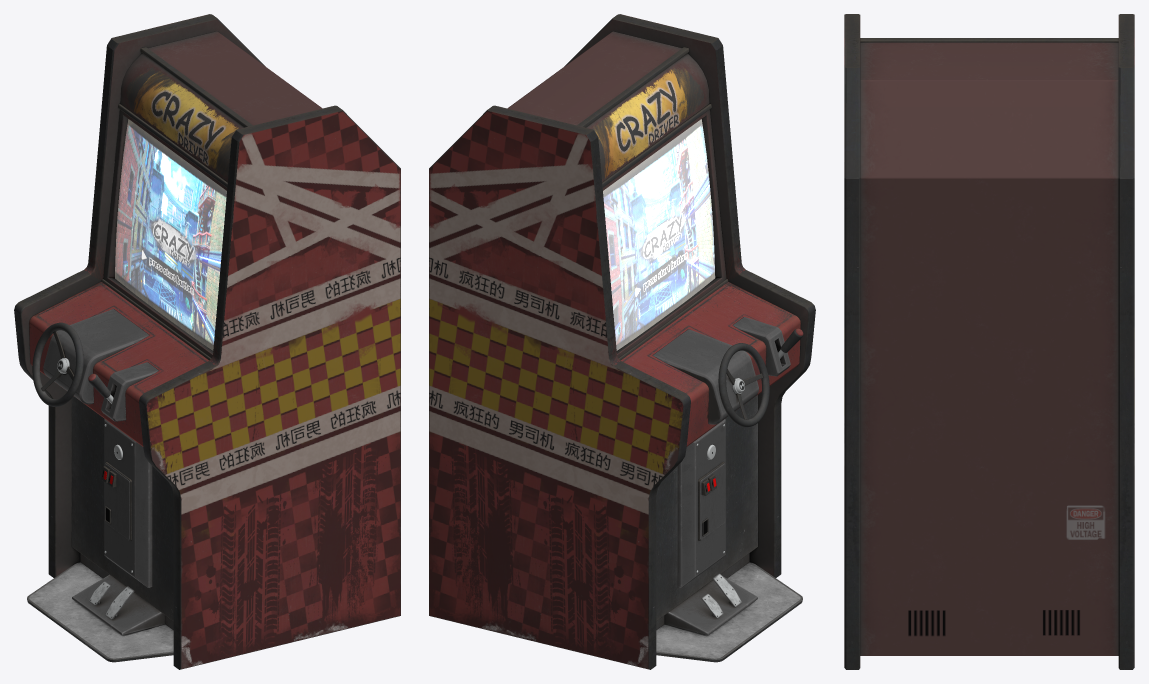
Rendered from SM_SportArcade_01.fbx.
The picture shows the model from 3 angles, left to right: view 1: azimuth 30°, elevation 25°; view 2: azimuth 150°, elevation 25°; view 3: azimuth 270°, elevation 25°; orthographic projection. The views are drawn at different scales.
Parts seen in each view (by area): view 1: SM_SportArcade_01_LOD0; view 2: SM_SportArcade_01_LOD0; view 3: SM_SportArcade_01_LOD0.
Boxes of the visible parts, box(x1,y1,x2,y2) form: SM_SportArcade_01_LOD0: box(14, 14, 400, 669); SM_SportArcade_01_LOD0: box(429, 14, 815, 669); SM_SportArcade_01_LOD0: box(844, 14, 1134, 669).
Bounding box in the file's own units: 107 × 88.64 × 192.
2 materials, 1 textured.
